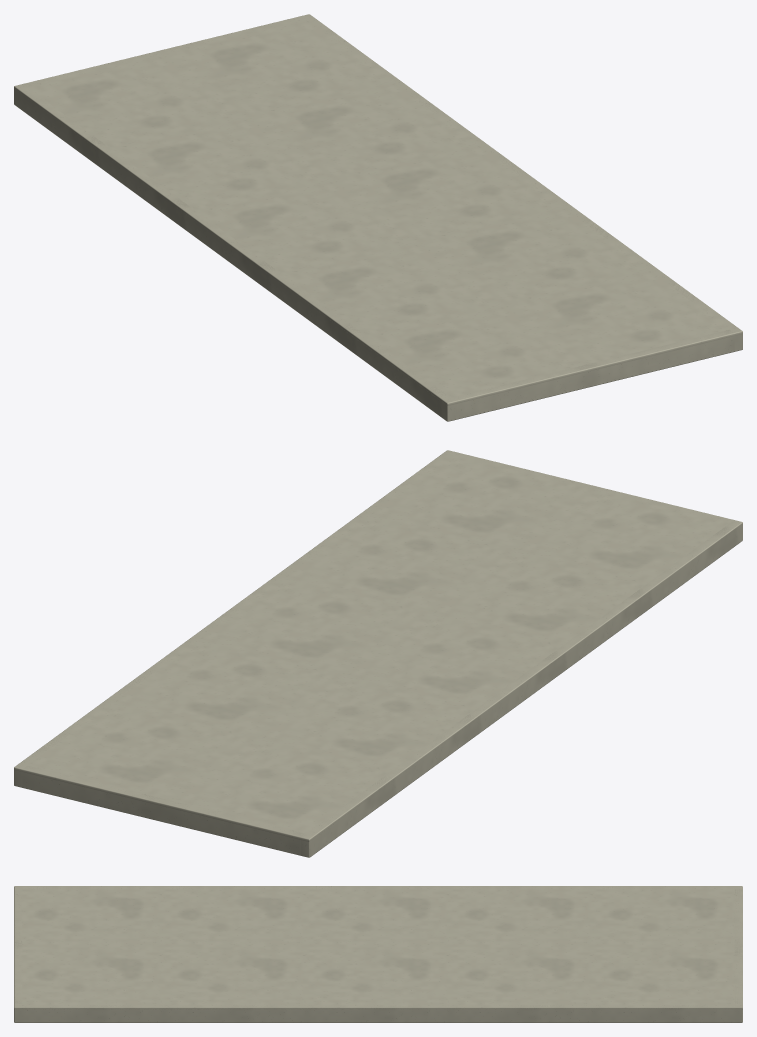
File: light_panel.glb
3 views of the same model, one above another, from view 1: azimuth 30°, elevation 25°; view 2: azimuth 150°, elevation 25°; view 3: azimuth 270°, elevation 25° (orthographic). The views are drawn at different scales.
Visible parts, largest first — view 1: light_panel_enamel_housing; view 2: light_panel_enamel_housing; view 3: light_panel_enamel_housing.
Boxes of the visible parts, x1,y1,x2,y2 form: light_panel_enamel_housing: [14, 14, 742, 421]; light_panel_enamel_housing: [14, 450, 742, 857]; light_panel_enamel_housing: [14, 886, 742, 1022].
Bounding box in the file's own units: 1.3 × 0.0811 × 3.3.
5 materials, 2 textured.
